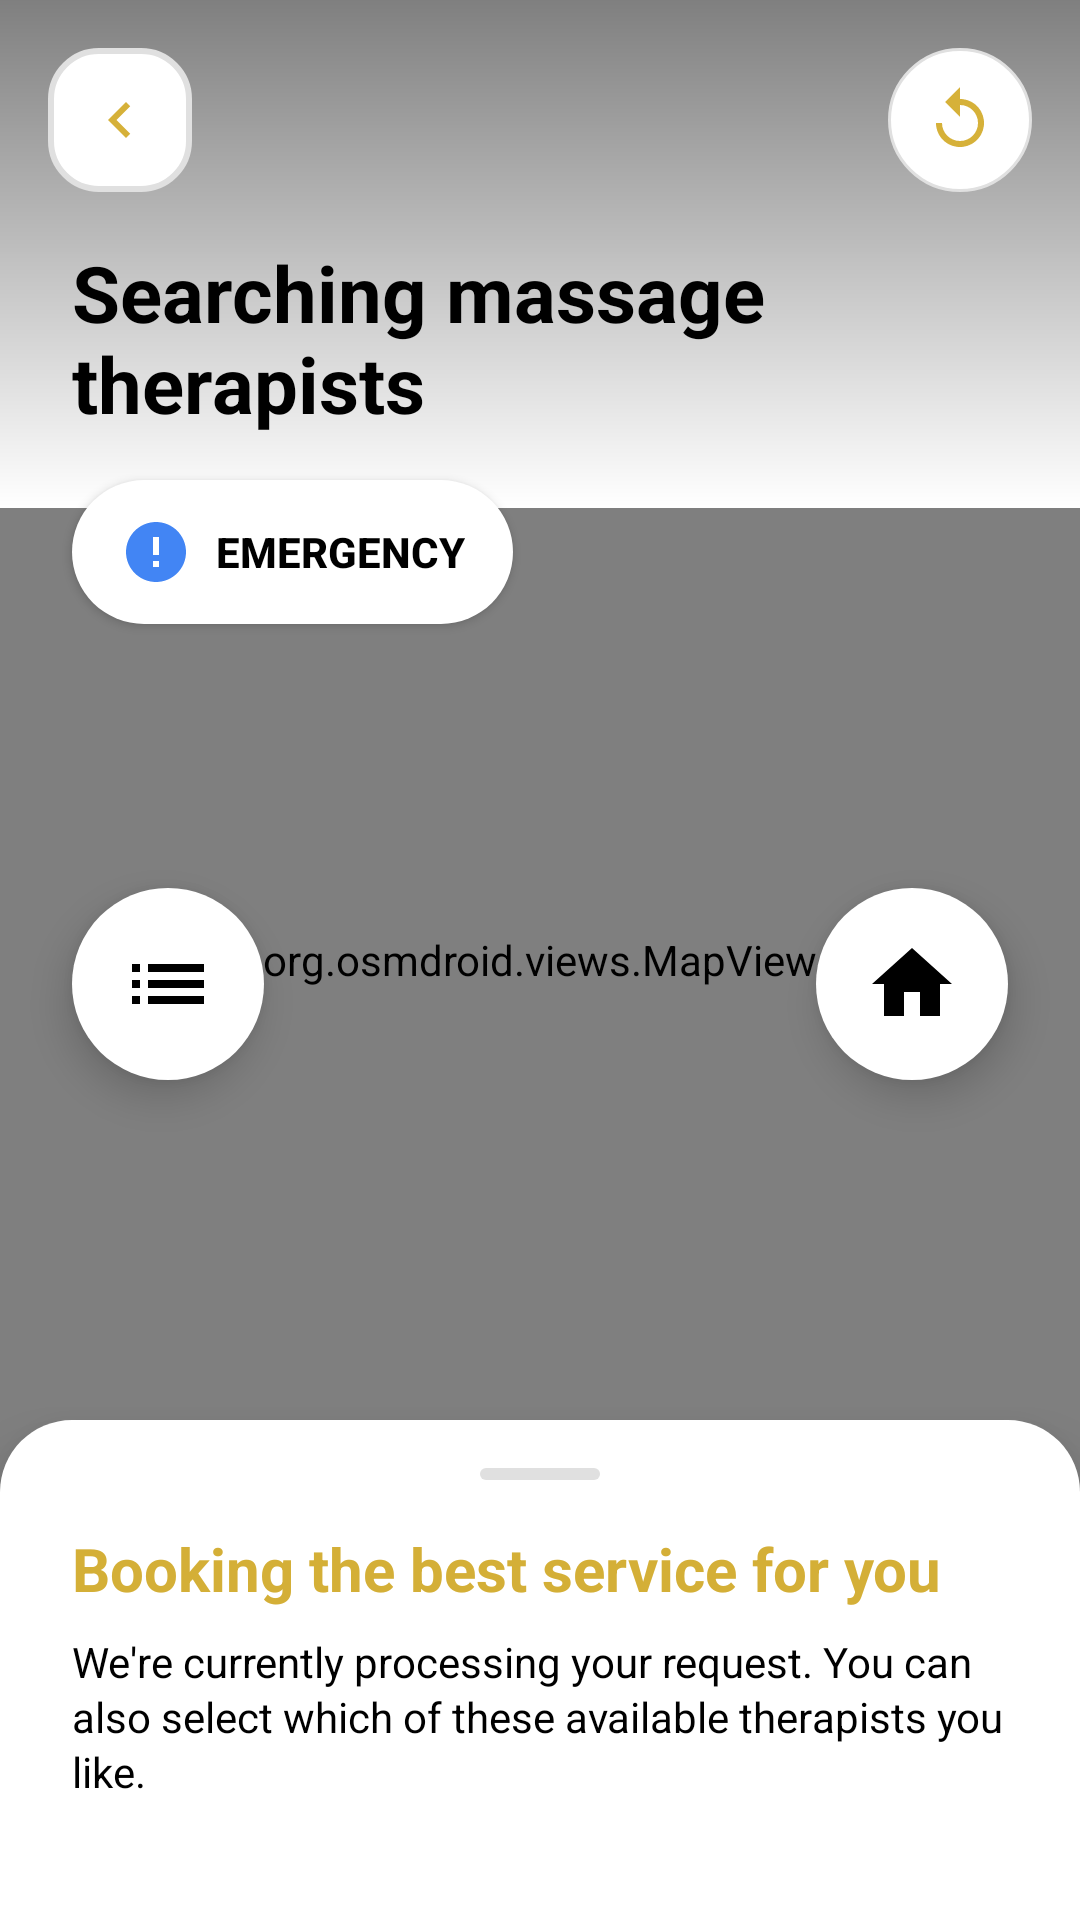

Point at icon controls on the screen. Image size 1080 × 1920, points as (x,y).
Back: (120,120)
Home: (912,984)
List View: (168,984)
Reset: (960,120)
